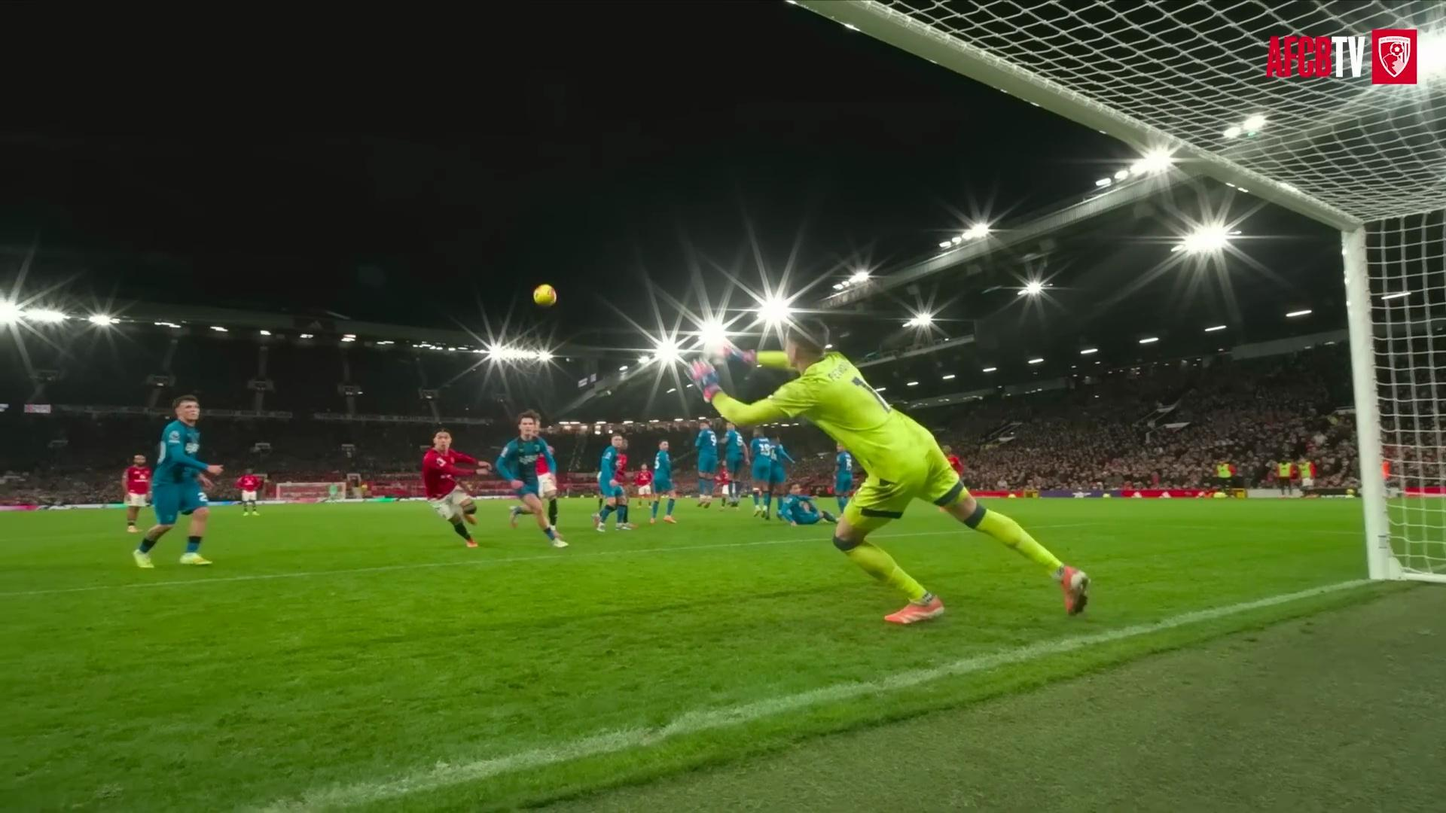football: (532, 284, 557, 306)
player: (691, 320, 1088, 623), (133, 395, 222, 568), (496, 410, 567, 547), (422, 430, 490, 547), (593, 434, 632, 531), (778, 483, 836, 525), (650, 440, 677, 523), (123, 455, 152, 532), (722, 422, 747, 507), (750, 428, 773, 519), (695, 419, 718, 507), (536, 444, 557, 527), (770, 436, 794, 502), (834, 443, 853, 513), (235, 469, 263, 516), (715, 465, 735, 507), (941, 445, 962, 477), (942, 446, 963, 477), (634, 466, 652, 501), (615, 438, 627, 483)
